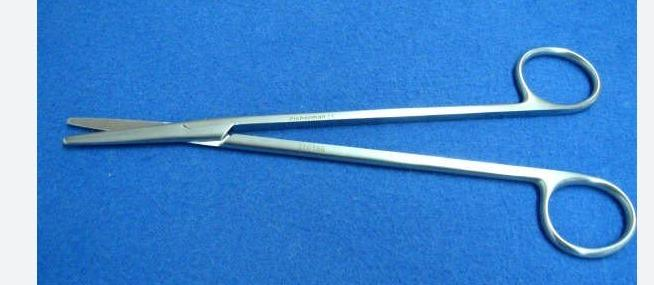Metzenbaum Sciccors: (61, 37, 638, 264)
